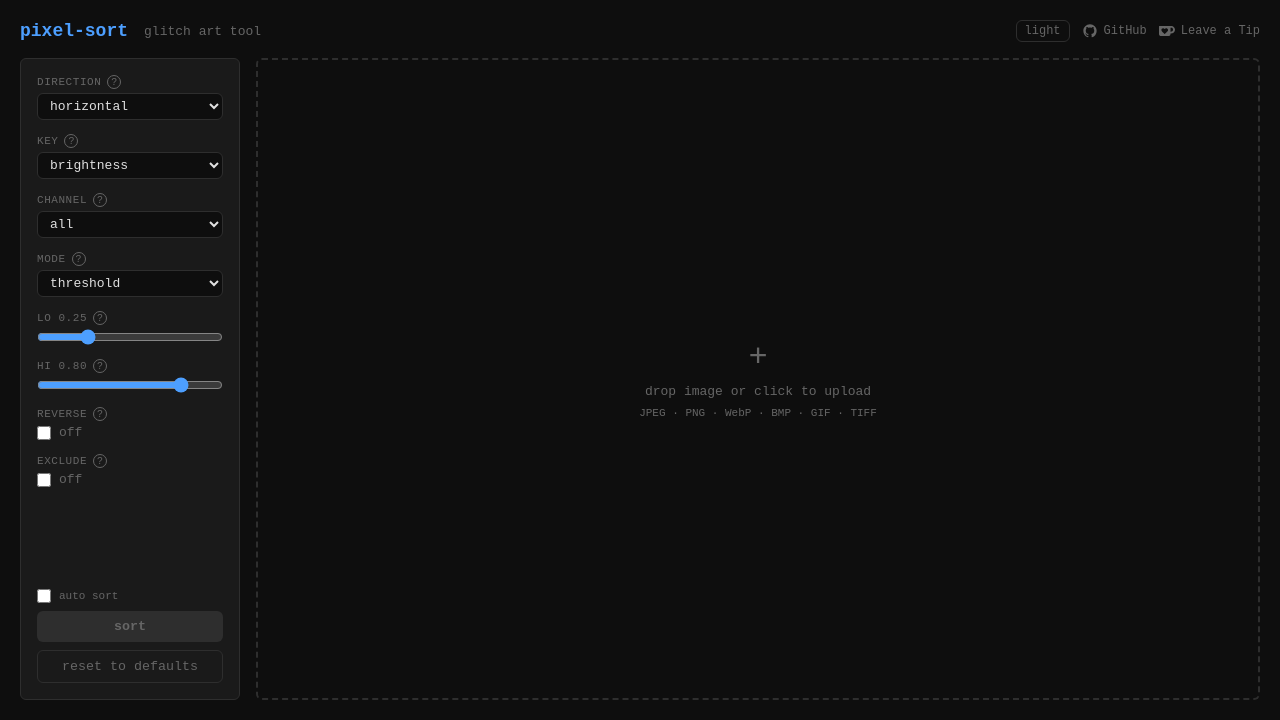
PixelSorter — radial/spoke controls › focal point section disappears when switching back to horizontal
Select "radial" in the dropdown showing "horizontal" below "direction" at (130, 106), box [37,93,223,120]
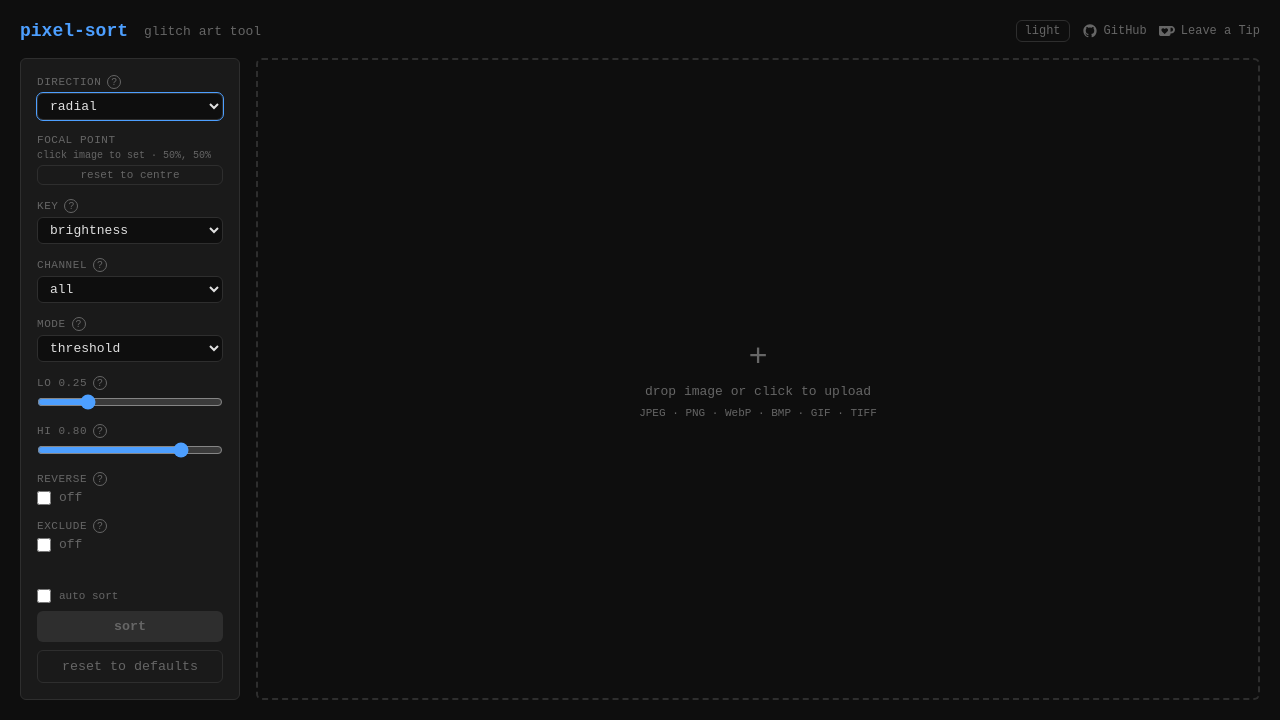
expect the text "focal point" is shown: met, box [37,134,116,146]
Select "horizontal" in the dropdown showing "radial" below "direction" at (130, 106), box [37,93,223,120]
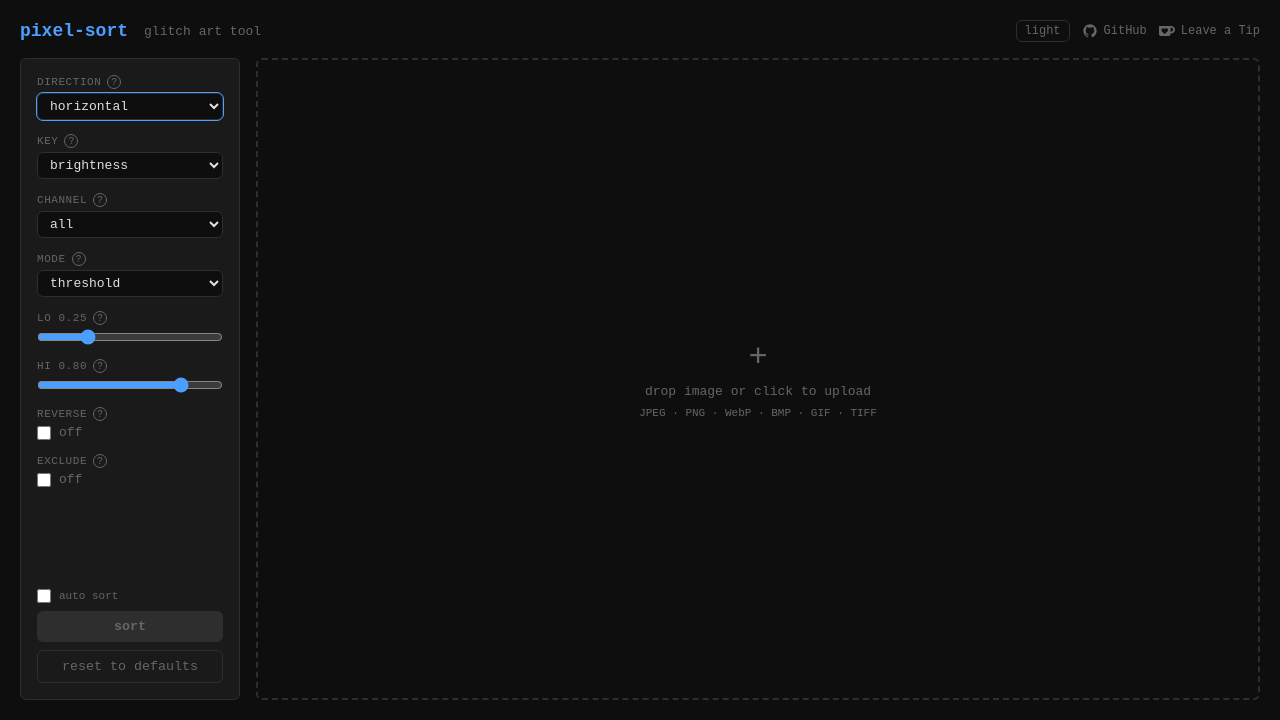
expect the text "focal point" is gone: met
